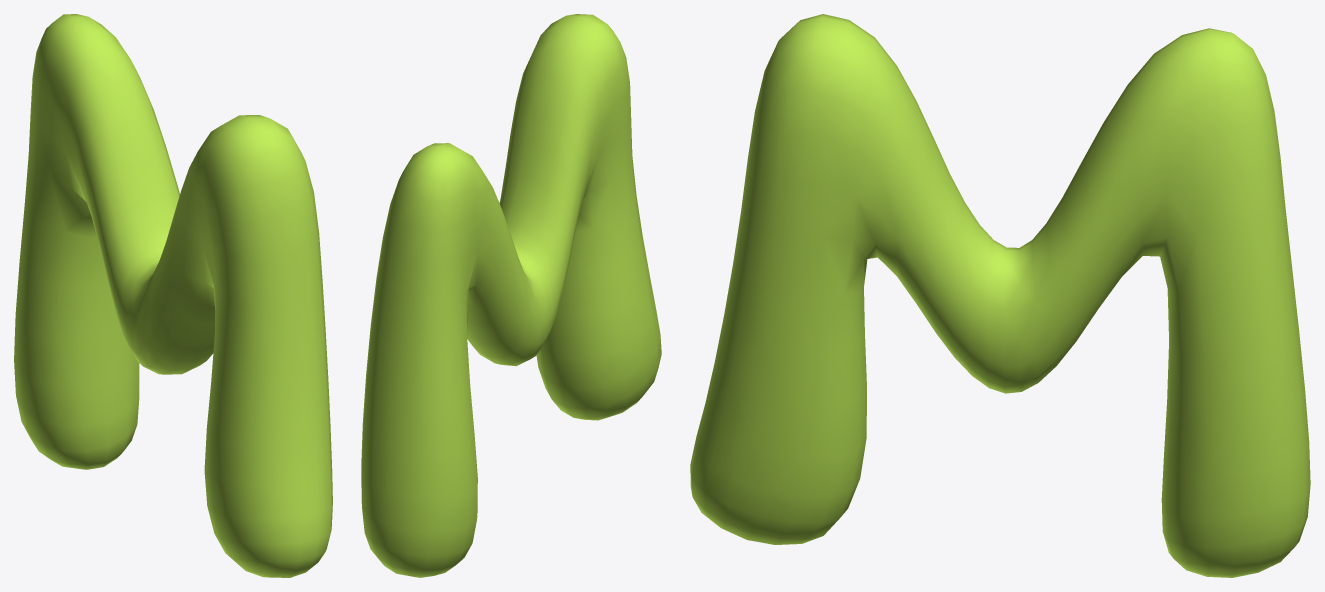
The model's file is letter_m1.glb.
The picture shows the model from 3 angles, left to right: view 1: azimuth 30°, elevation 25°; view 2: azimuth 150°, elevation 25°; view 3: azimuth 270°, elevation 25°; orthographic projection. The views are drawn at different scales.
Parts seen in each view (by area): view 1: M; view 2: M; view 3: M.
Part boxes in pixels (left/top/right/bottom): M: left=14, top=14, right=332, bottom=577; M: left=361, top=14, right=661, bottom=577; M: left=690, top=14, right=1310, bottom=577.
Size of the model in its own units: 0.1299 by 0.5278 by 0.5365.
